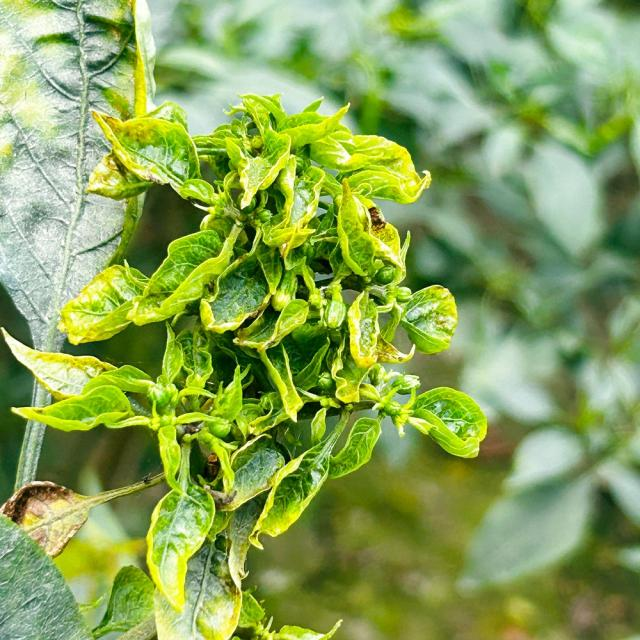Chilli_Leaf_Curl: (1, 1, 489, 638)
